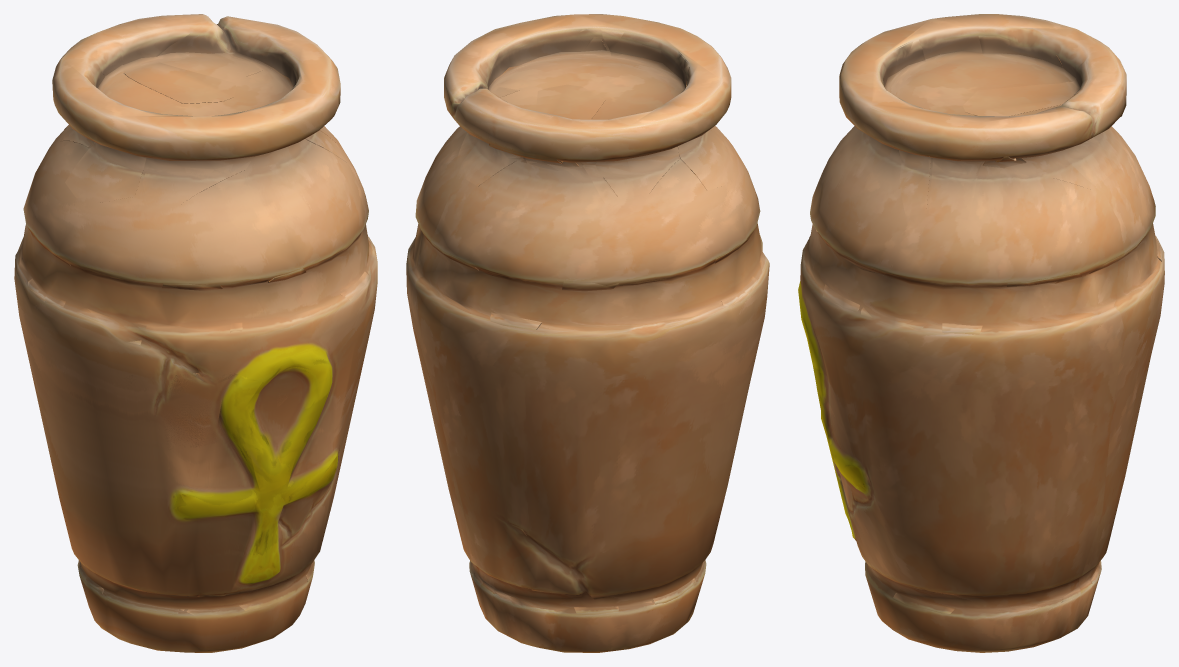
The model's file is pot.fbx.
3 views of the same model, side by side, from view 1: azimuth 30°, elevation 25°; view 2: azimuth 150°, elevation 25°; view 3: azimuth 270°, elevation 25° (orthographic).
Visible parts, largest first — view 1: pot_complete, pot_L.001_cell, pot_L.001_cell.039, pot_L.001_cell.040, pot_L.001_cell.032; view 2: pot_complete, pot_L.001_cell.040, pot_L.001_cell.013, pot_L.001_cell.039, pot_L.001_cell.031, pot_L.001_cell.032, pot_L.001_cell.027, pot_L.001_cell.042; view 3: pot_complete, pot_L.001_cell.039, pot_L.001_cell.045, pot_L.001_cell.013, pot_L.001_cell.035, pot_L.001_cell.009, pot_L.001_cell.032.
Boxes of the visible parts, left/top/right/bottom form: pot_complete: left=14, top=14, right=377, bottom=652; pot_L.001_cell: left=124, top=371, right=287, bottom=450; pot_L.001_cell.039: left=120, top=27, right=236, bottom=103; pot_L.001_cell.040: left=65, top=143, right=146, bottom=205; pot_L.001_cell.032: left=142, top=161, right=250, bottom=203; pot_complete: left=406, top=14, right=769, bottom=652; pot_L.001_cell.040: left=677, top=130, right=730, bottom=190; pot_L.001_cell.013: left=455, top=133, right=520, bottom=186; pot_L.001_cell.039: left=499, top=84, right=605, bottom=119; pot_L.001_cell.031: left=603, top=156, right=678, bottom=198; pot_L.001_cell.032: left=601, top=29, right=719, bottom=135; pot_L.001_cell.027: left=489, top=143, right=579, bottom=330; pot_L.001_cell.042: left=580, top=161, right=619, bottom=209; pot_complete: left=798, top=14, right=1164, bottom=652; pot_L.001_cell.039: left=963, top=61, right=1088, bottom=116; pot_L.001_cell.045: left=928, top=157, right=996, bottom=219; pot_L.001_cell.013: left=1038, top=136, right=1113, bottom=189; pot_L.001_cell.035: left=899, top=150, right=930, bottom=216; pot_L.001_cell.009: left=942, top=156, right=1026, bottom=334; pot_L.001_cell.032: left=881, top=39, right=926, bottom=90.
Bounding box in the file's own units: 277 × 455 × 280.
